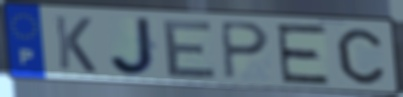C: (334, 26, 388, 86)
E: (273, 23, 332, 87), (161, 19, 220, 80)
J: (107, 16, 161, 78)
K: (52, 13, 99, 75)
P: (217, 20, 272, 82)
